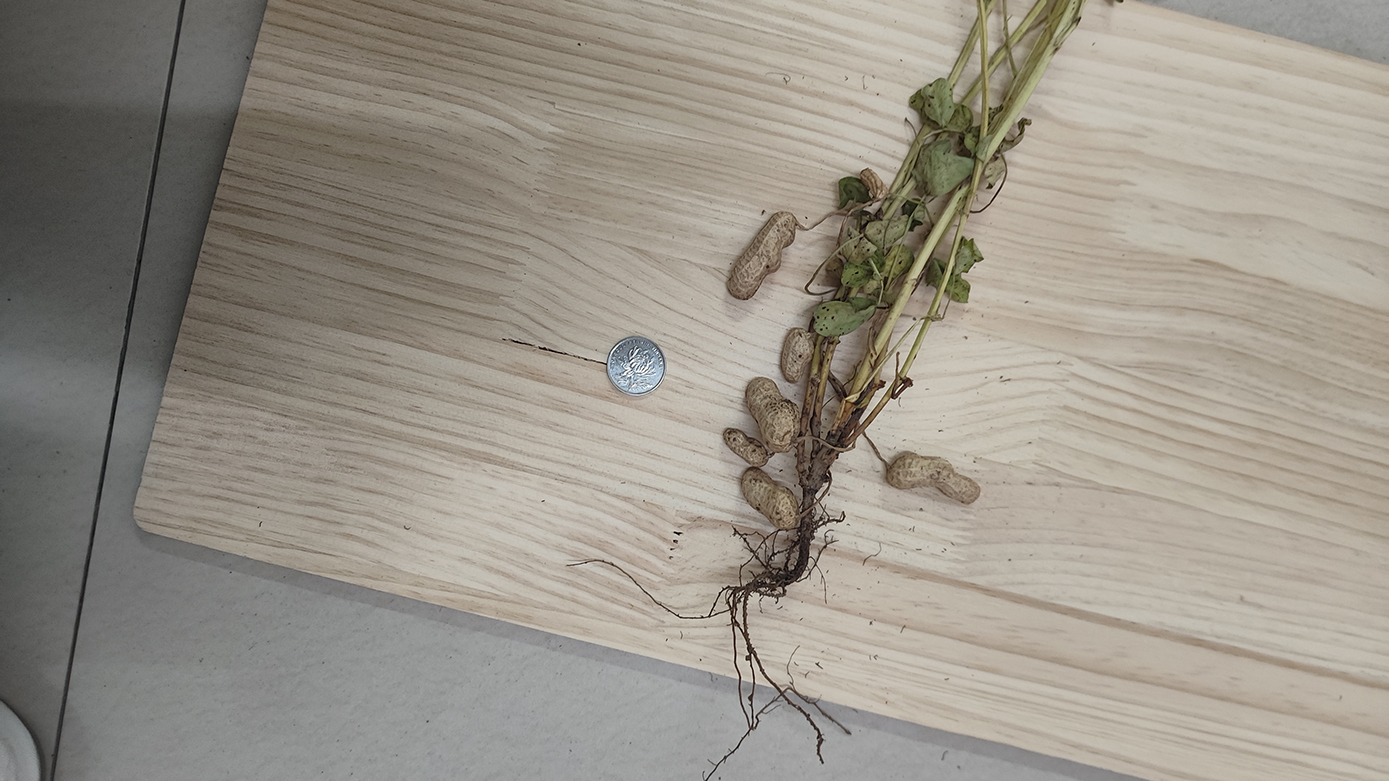h: (726, 212, 796, 300), (887, 452, 981, 503), (745, 378, 801, 452), (741, 467, 799, 530), (780, 326, 815, 383), (723, 428, 768, 467)
l: (860, 169, 888, 201)
